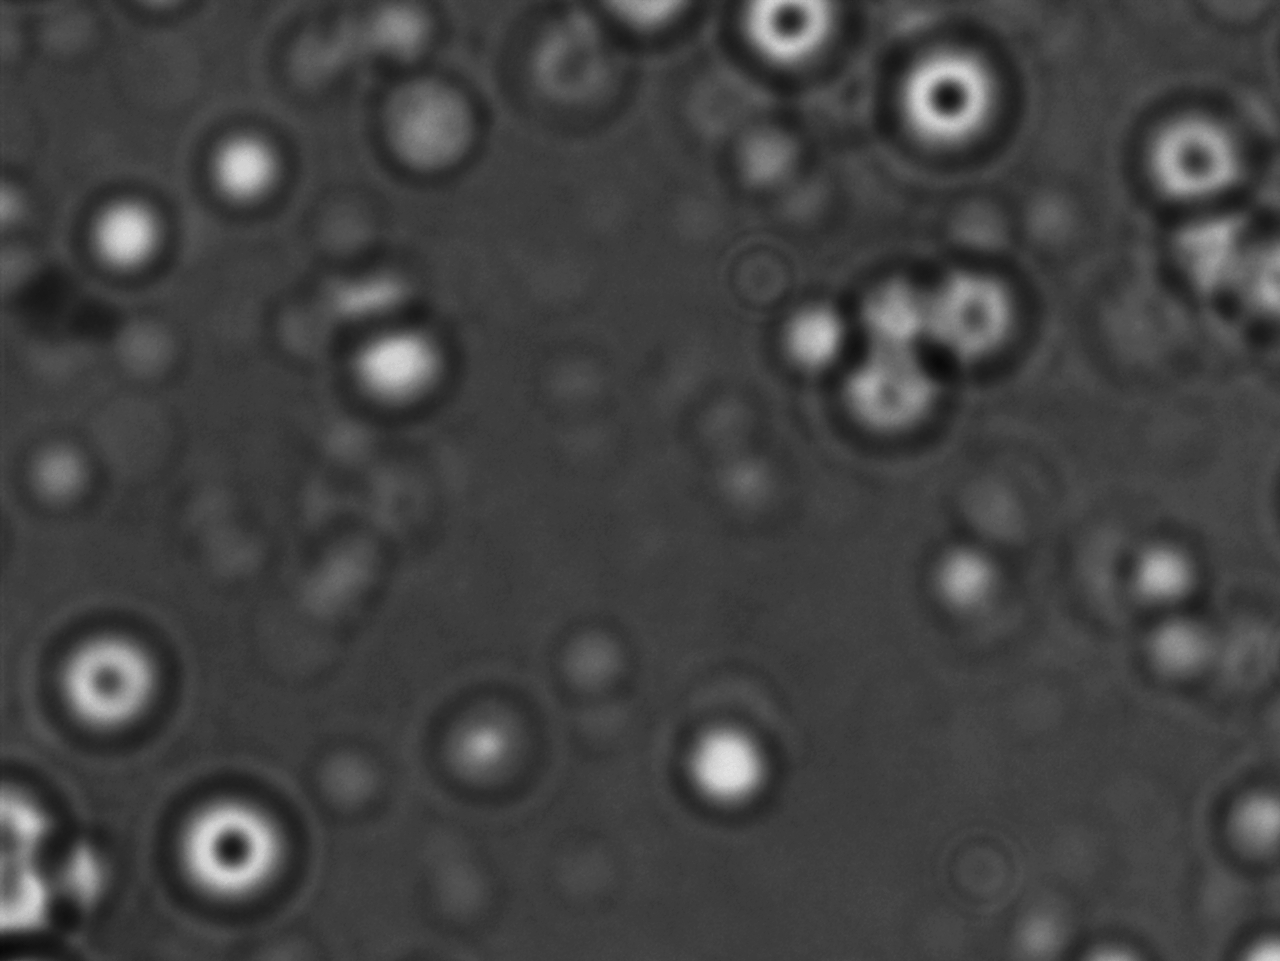depth:32: (156, 772, 327, 921), (878, 18, 1032, 170), (41, 613, 187, 752)
